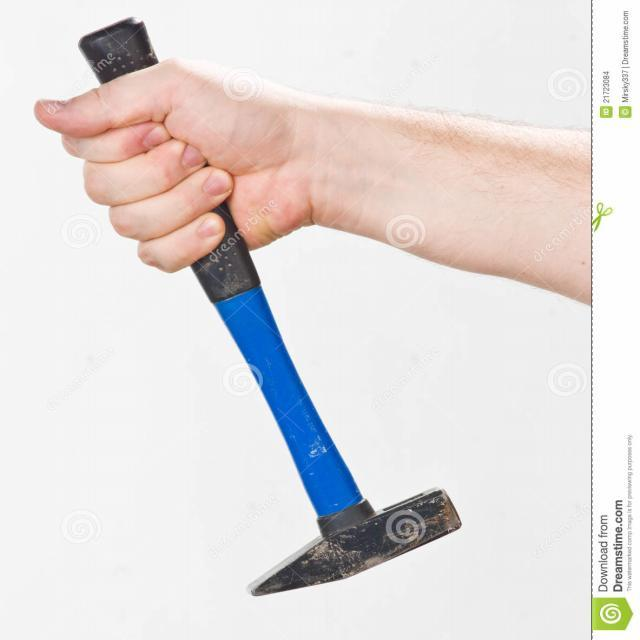hammer: (68, 9, 471, 602)
